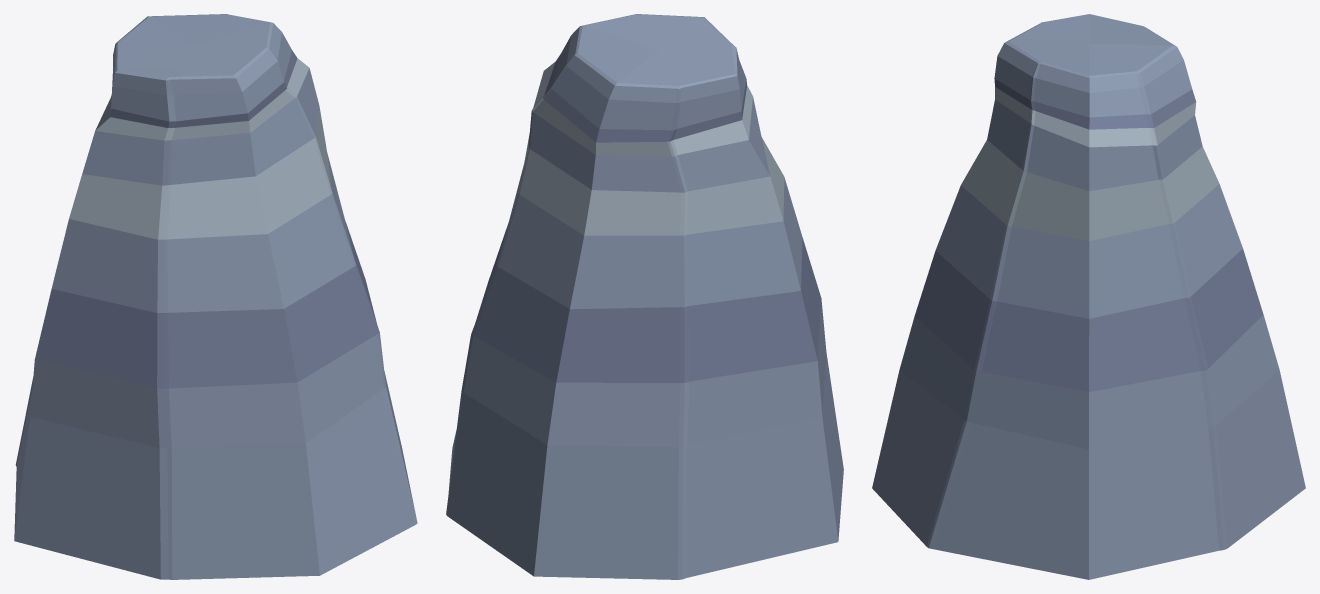
File: Cliff_C.fbx
3 views of the same model, side by side, from view 1: azimuth 30°, elevation 25°; view 2: azimuth 150°, elevation 25°; view 3: azimuth 270°, elevation 25° (orthographic). The views are drawn at different scales.
Visible parts, largest first — view 1: Cliff_C; view 2: Cliff_C; view 3: Cliff_C.
Boxes of the visible parts, left/top/right/bottom form: Cliff_C: left=14, top=14, right=417, bottom=579; Cliff_C: left=446, top=14, right=843, bottom=579; Cliff_C: left=872, top=14, right=1305, bottom=579.
Size of the model in its own units: 6 by 6.75 by 6.
